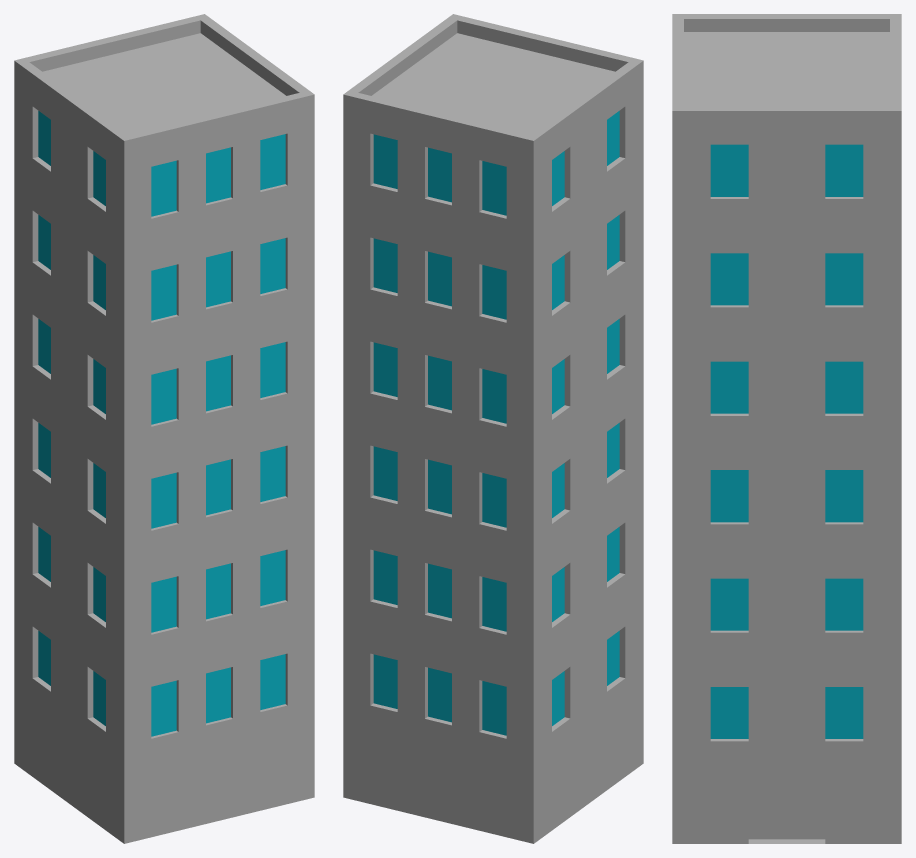
File: House.fbx
3 views of the same model, side by side, from view 1: azimuth 30°, elevation 25°; view 2: azimuth 150°, elevation 25°; view 3: azimuth 270°, elevation 25° (orthographic). The views are drawn at different scales.
Parts seen in each view (by area): view 1: Cube; view 2: Cube; view 3: Cube.
Part boxes in pixels (<box>): Cube: <box>14,14,314,843</box>; Cube: <box>343,14,643,843</box>; Cube: <box>672,14,901,843</box>.
Bounding box in the file's own units: 200 × 705 × 200.
